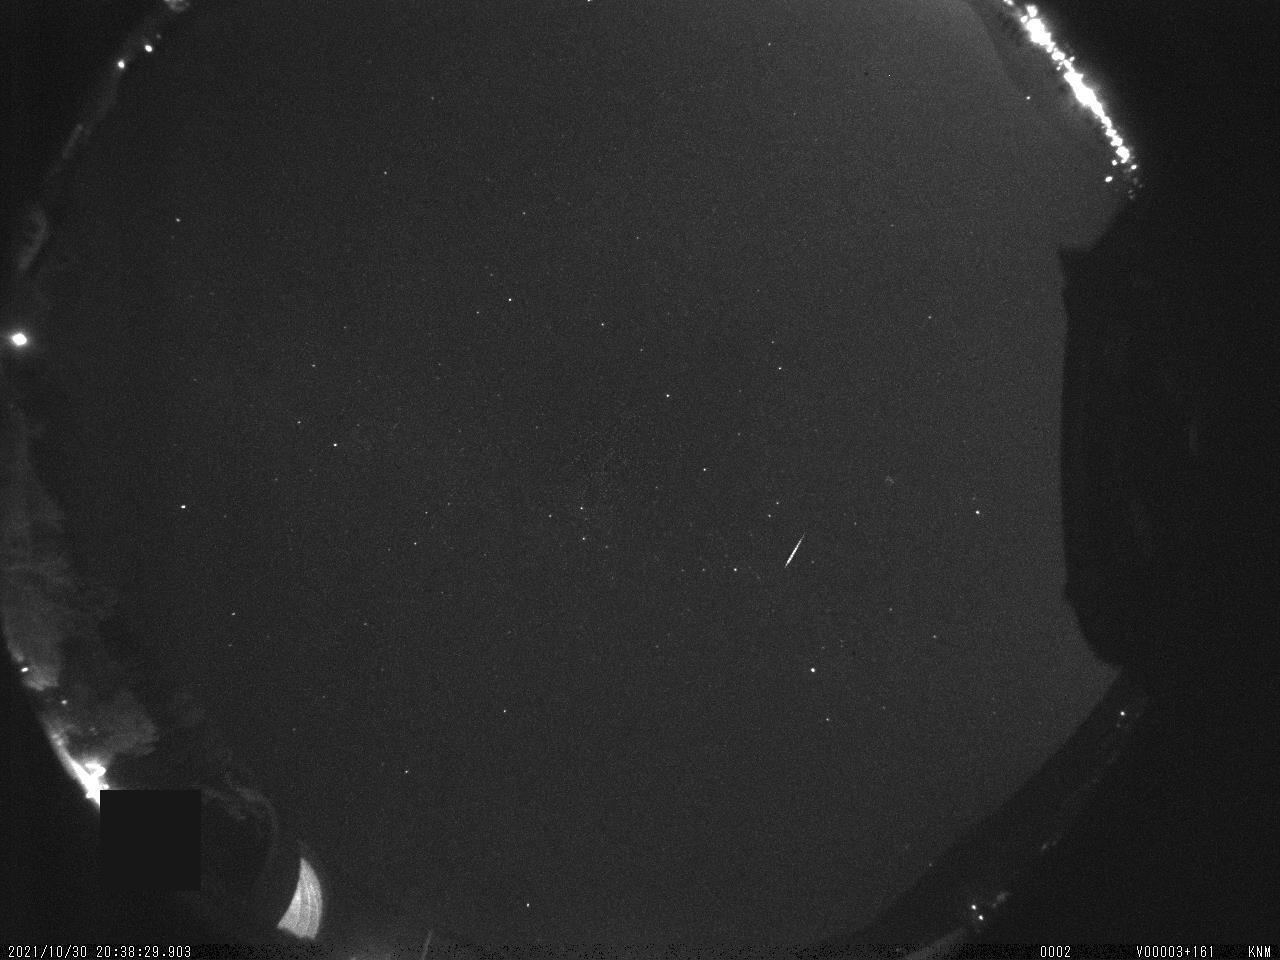Meteor: (780, 530, 809, 570)
